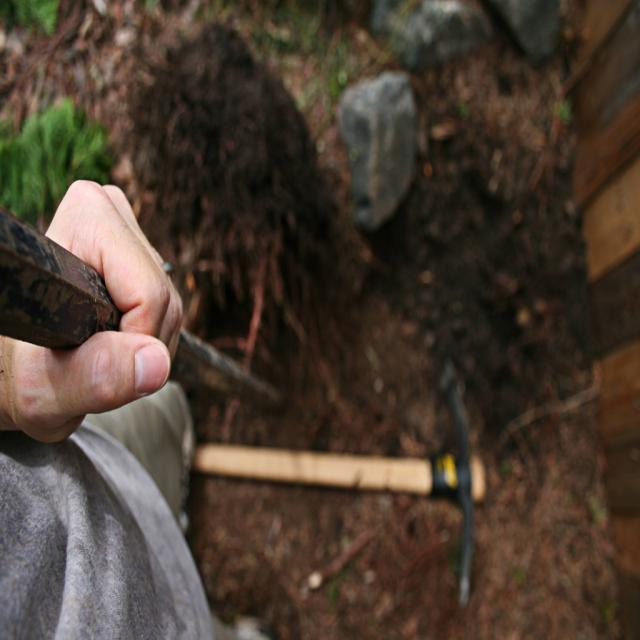Axe: (194, 361, 485, 607)
